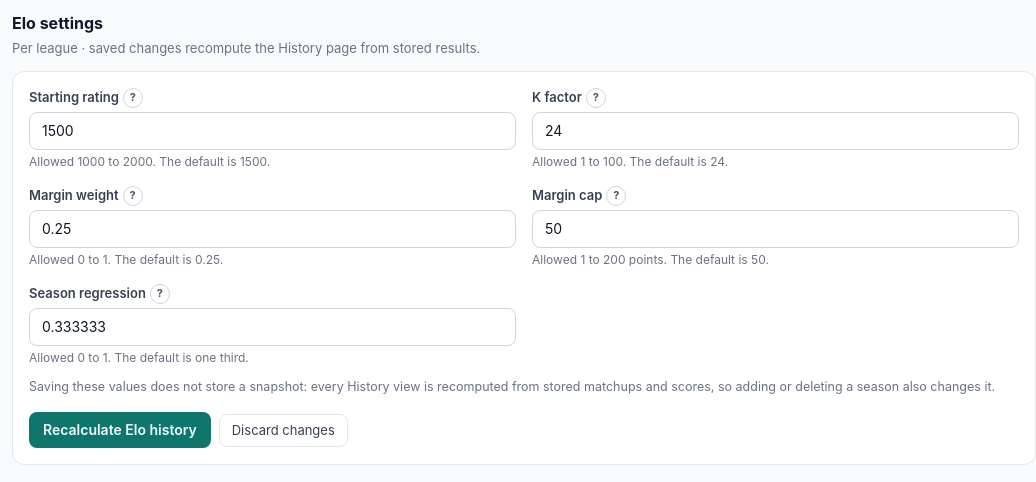
Test: EloSettingsSection › restores the saved values when changes are discarded
Replace the text in the field labelled "K factor" with "32" at [776, 130], box [532,112,1019,150]
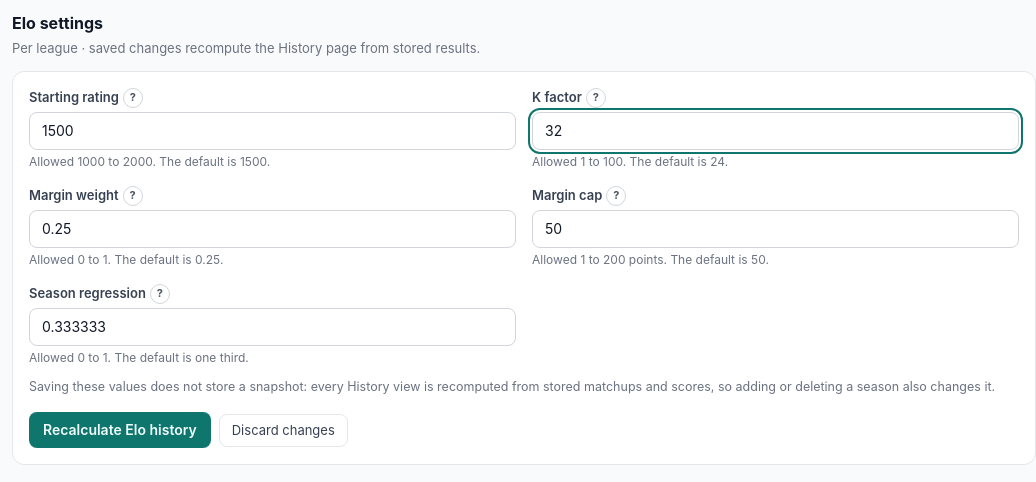
Click the button "Discard changes" at [283, 430], box [219,414,348,447]
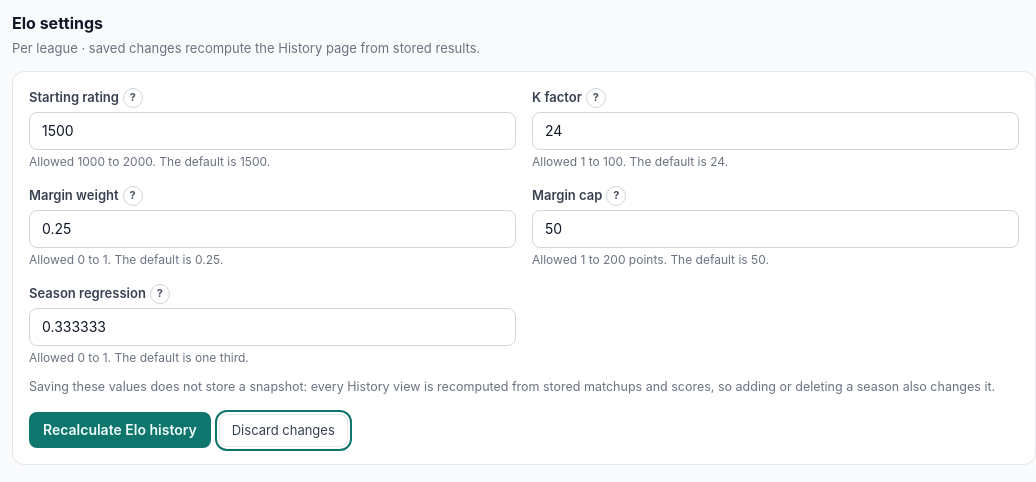
Expected: the field labelled "K factor" holds "24", [532,112,1019,150]
